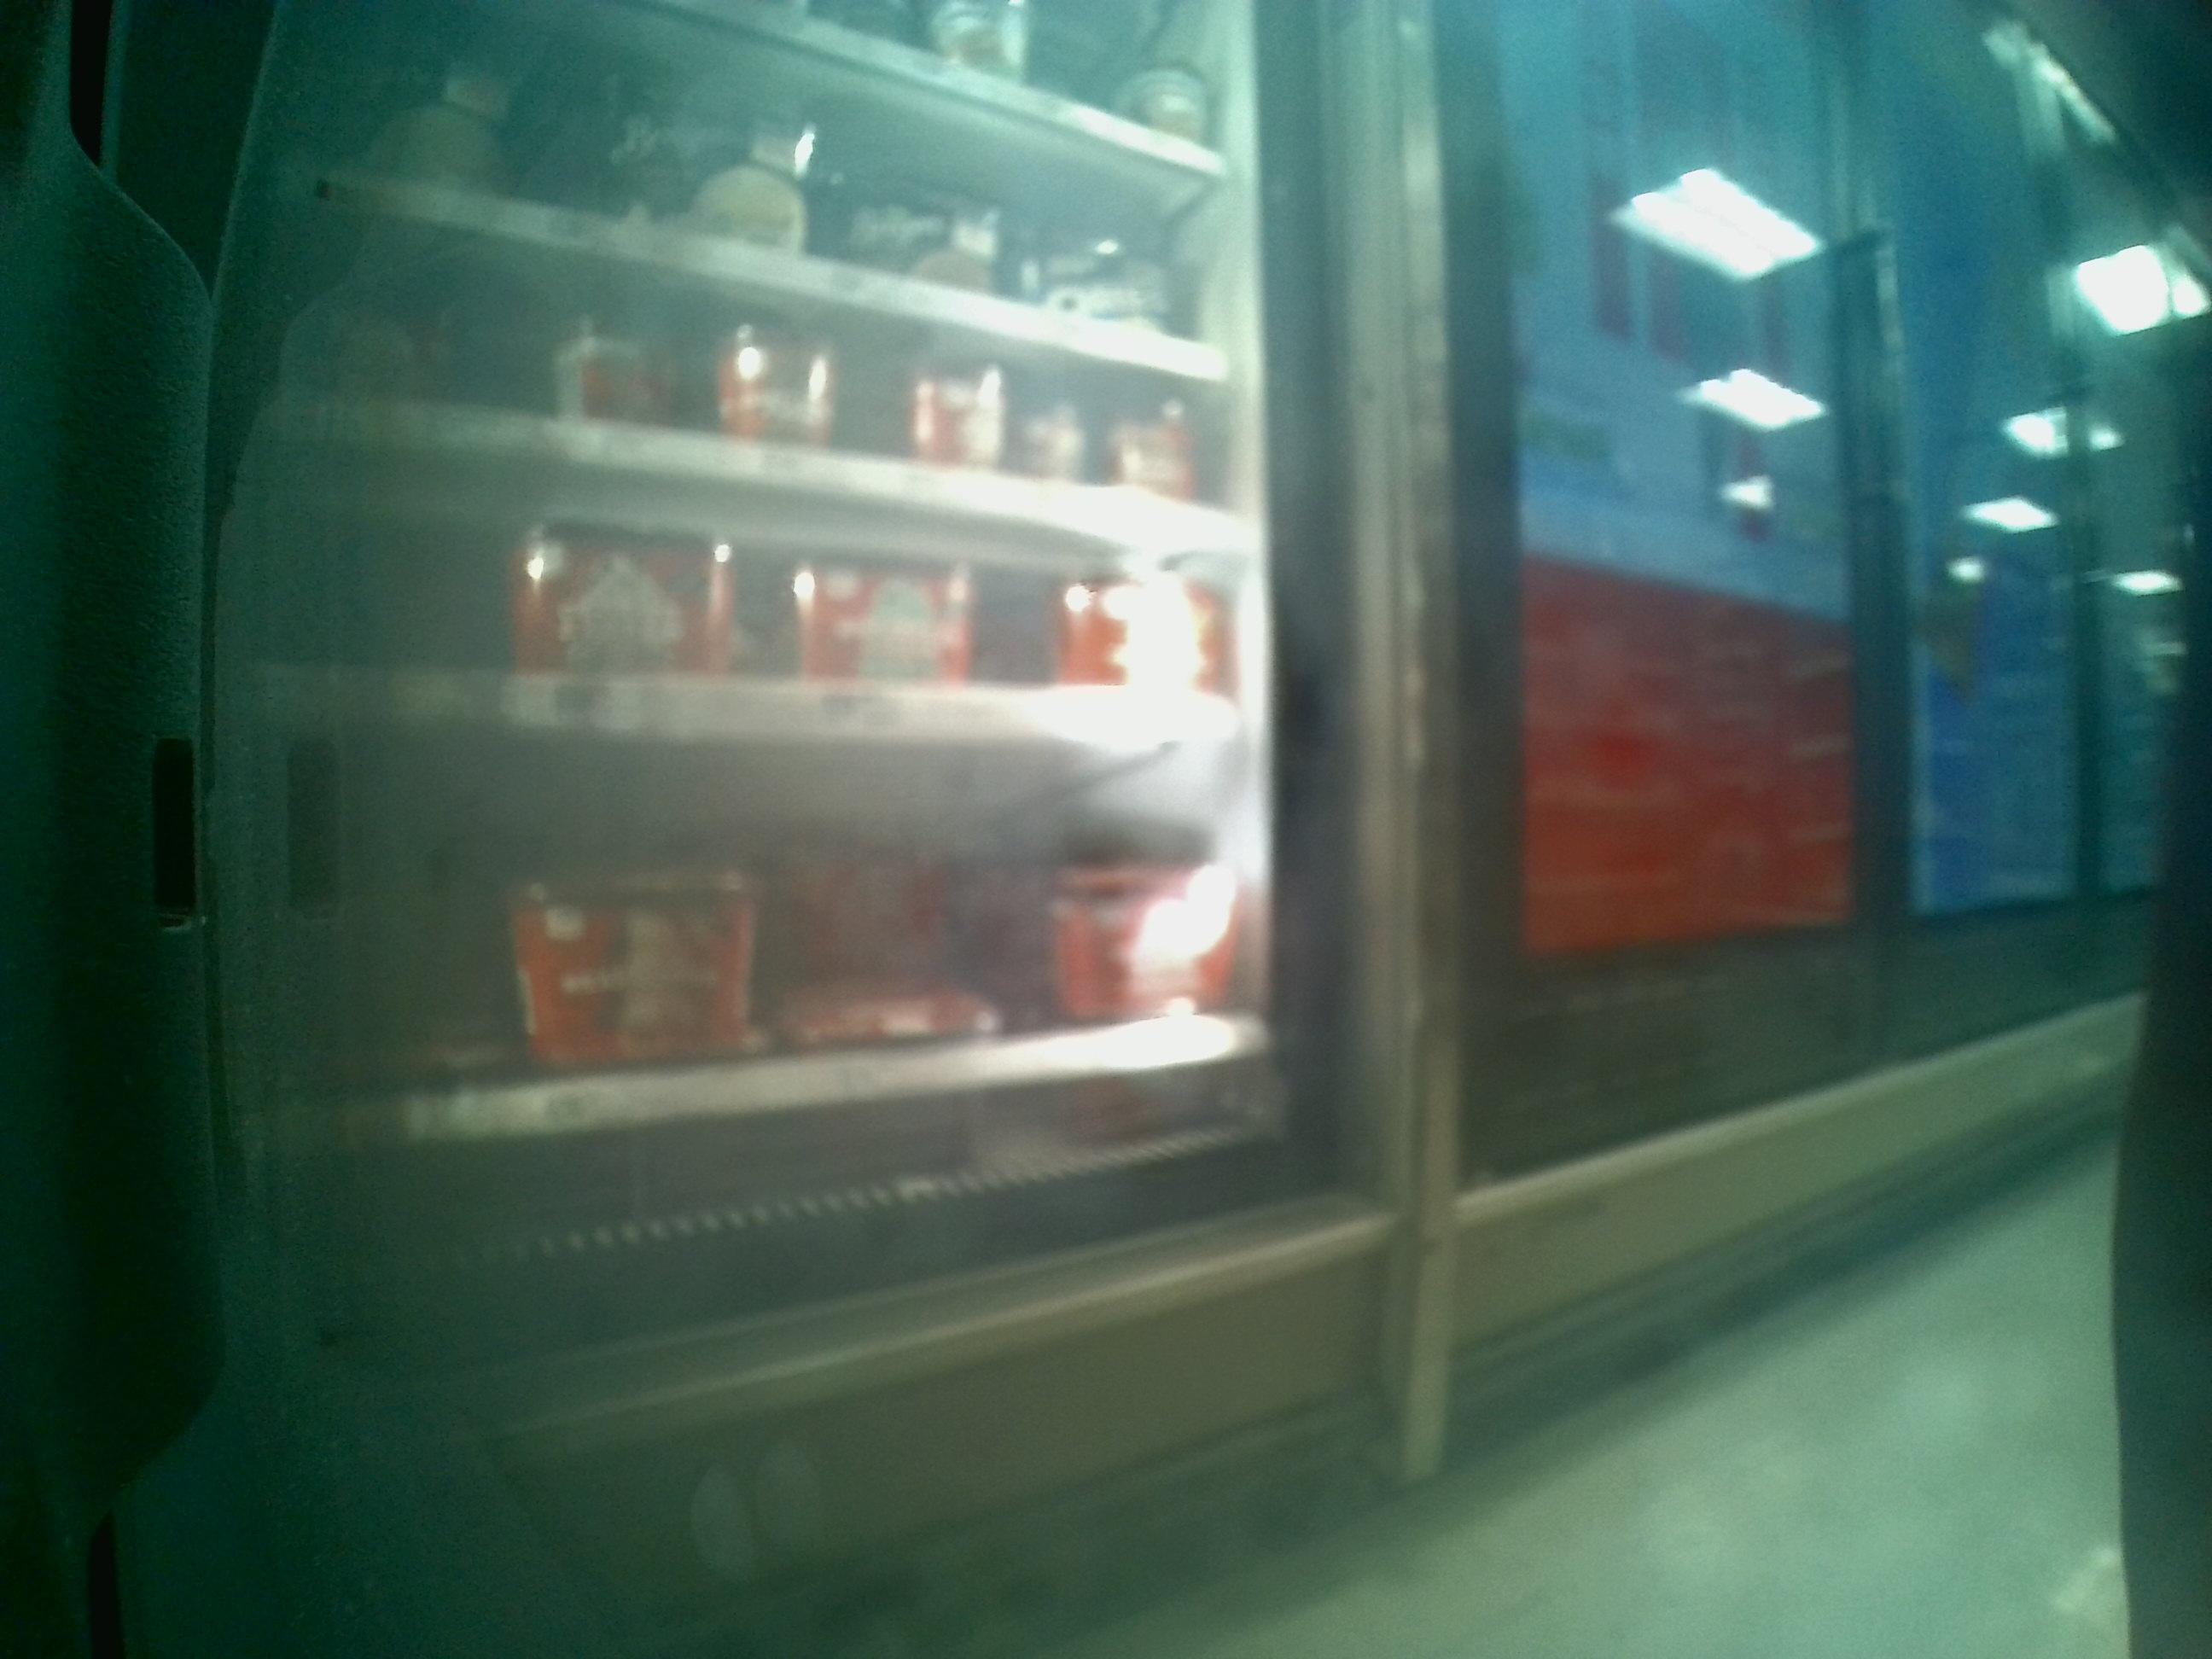shelf: (256, 732, 1294, 1215), (254, 441, 1282, 734)
